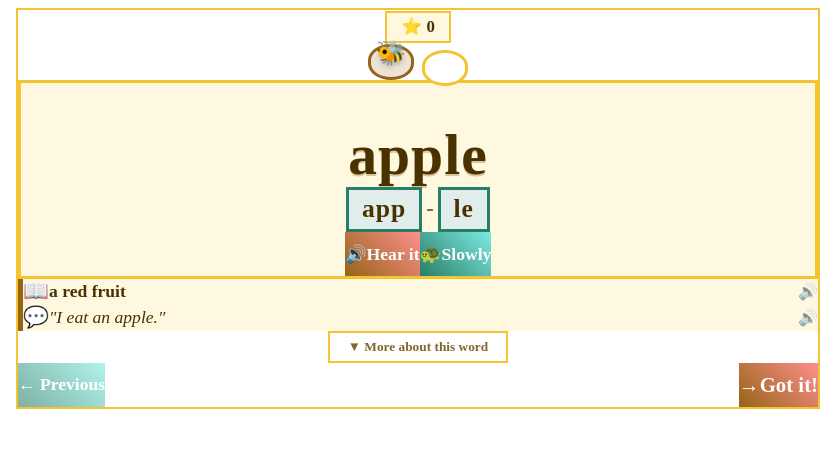
Test: LearnMode Component › navigates back when "Previous" is clicked
Click the button "→ Got it!": point(778, 384) [739,362,818,406]
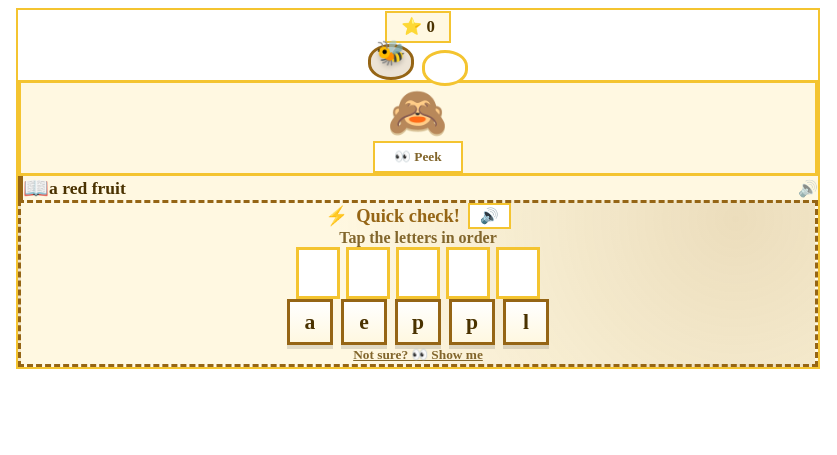
Click the button "Not sure? 👀 Show me": point(418, 355) [347,346,489,364]
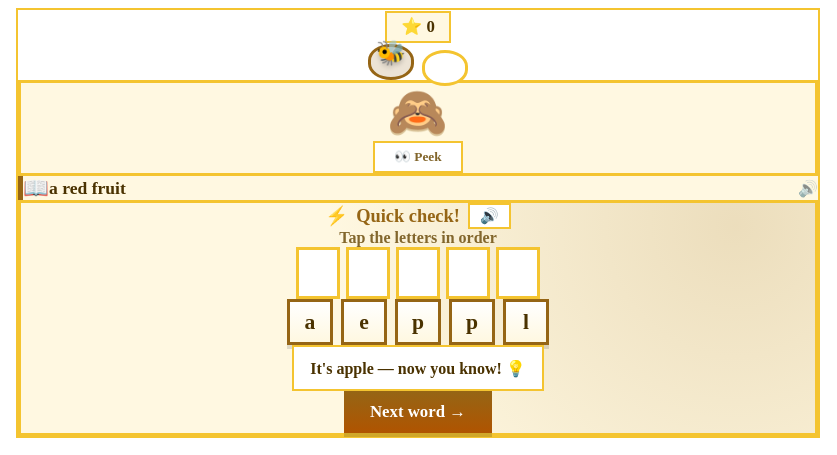
Click the button "Next word →": point(418, 412) [344,391,492,433]
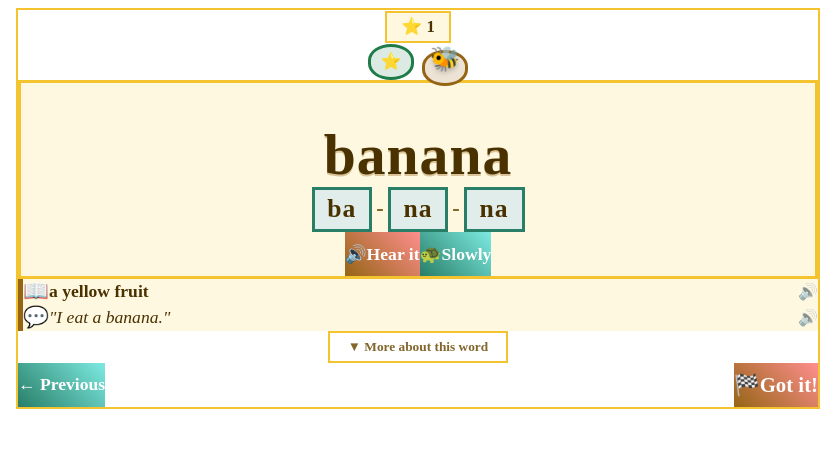
expect the heading "banana" is shown: met, box [324,123,512,186]
Click the button "← Previous": point(62, 384) [18,362,105,406]
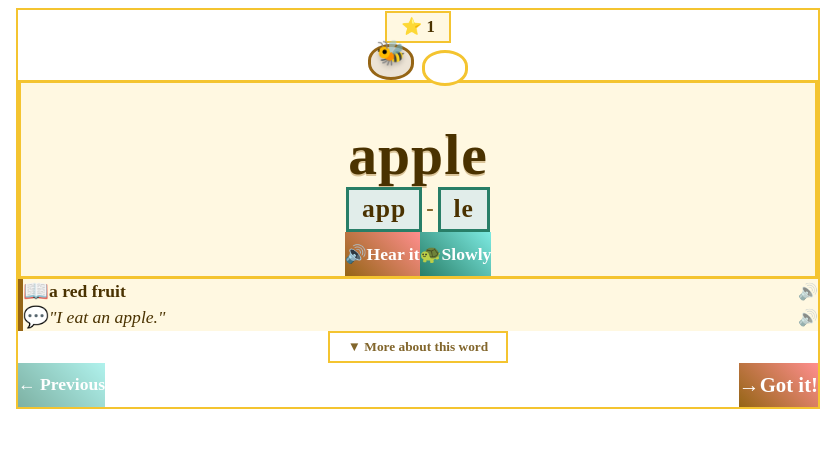
expect the heading "apple" is shown: met, box [348,123,488,186]
